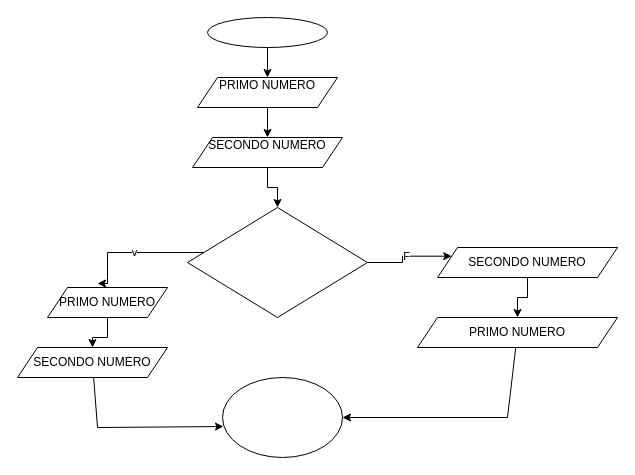
Some shapes in this 635 by 475 pixel diagram are drawn without their labels. The shapes that lost their labels are listed below. From the top down, each one's centre as x and y in pixels, then its label:
the point at 267,32: START
the point at 277,262: PRIMO NUMERO<SECONDONUMERO
the point at 282,417: END
